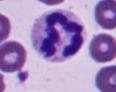N: (30, 8, 87, 62)
